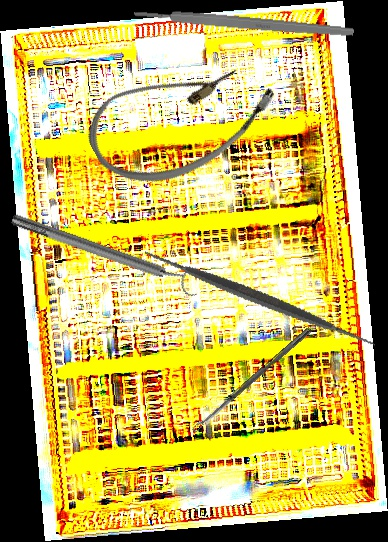Cannula: (74, 27, 289, 209)
Fixation Ring: (7, 202, 206, 301)
Scalpel Handle: (133, 6, 355, 39)
Spatula Surgical: (140, 179, 380, 419)
Surgical Spoon: (190, 326, 313, 433)
